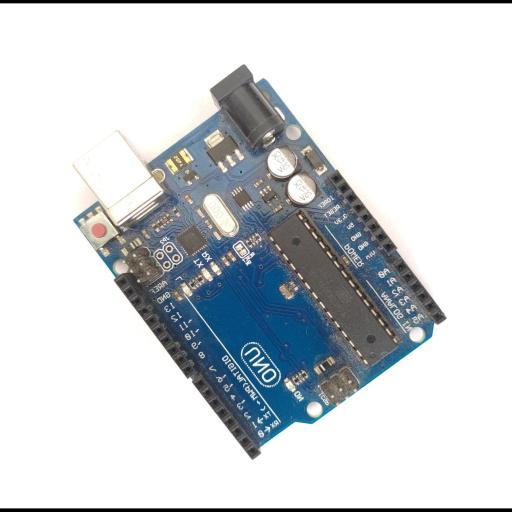Arduino Uno R3: (70, 64, 448, 460)
